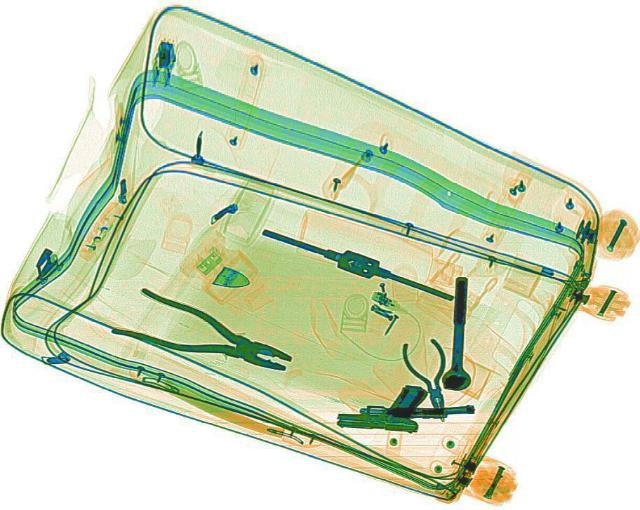Gun: (334, 377, 426, 432)
Pliers: (108, 283, 302, 388), (397, 335, 465, 424)
